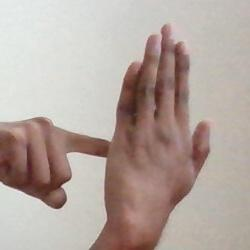R: (0, 5, 236, 250)
